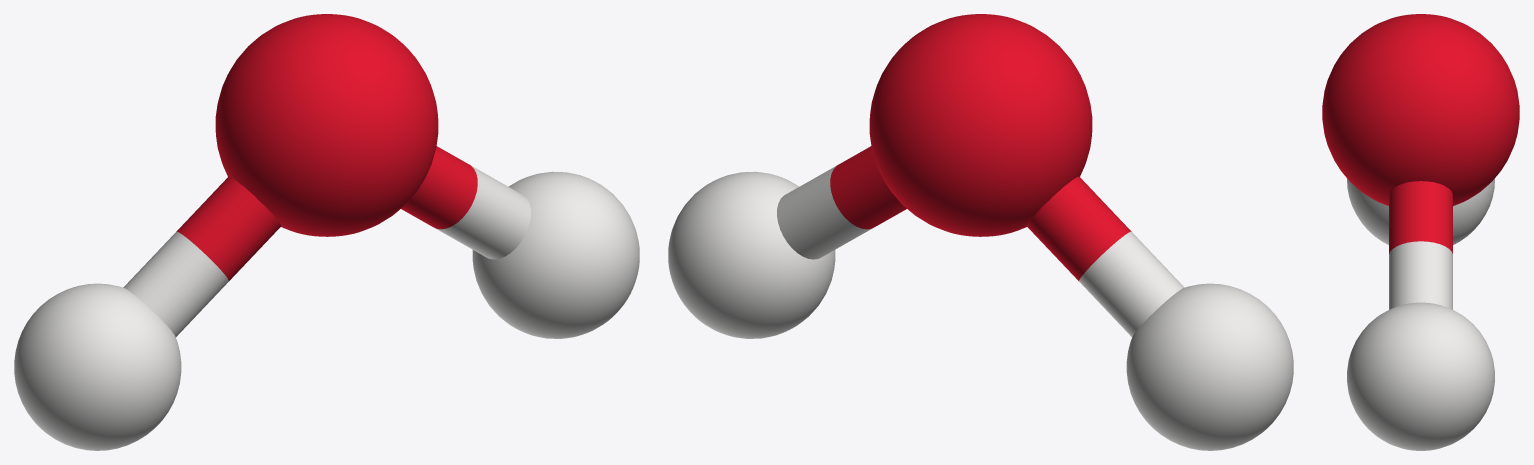
3 renders of one model, left to right at view 1: azimuth 30°, elevation 25°; view 2: azimuth 150°, elevation 25°; view 3: azimuth 270°, elevation 25°, orthographic. The views are drawn at different scales.
Parts seen in each view (by area): view 1: S2; view 2: S2; view 3: S2.
Part boxes in pixels (x1,y1,x2,y2): S2: (14,14,639,450); S2: (668,14,1293,450); S2: (1322,14,1519,450).
Bounding box in the file's own units: 24.96 × 14.35 × 7.98.
